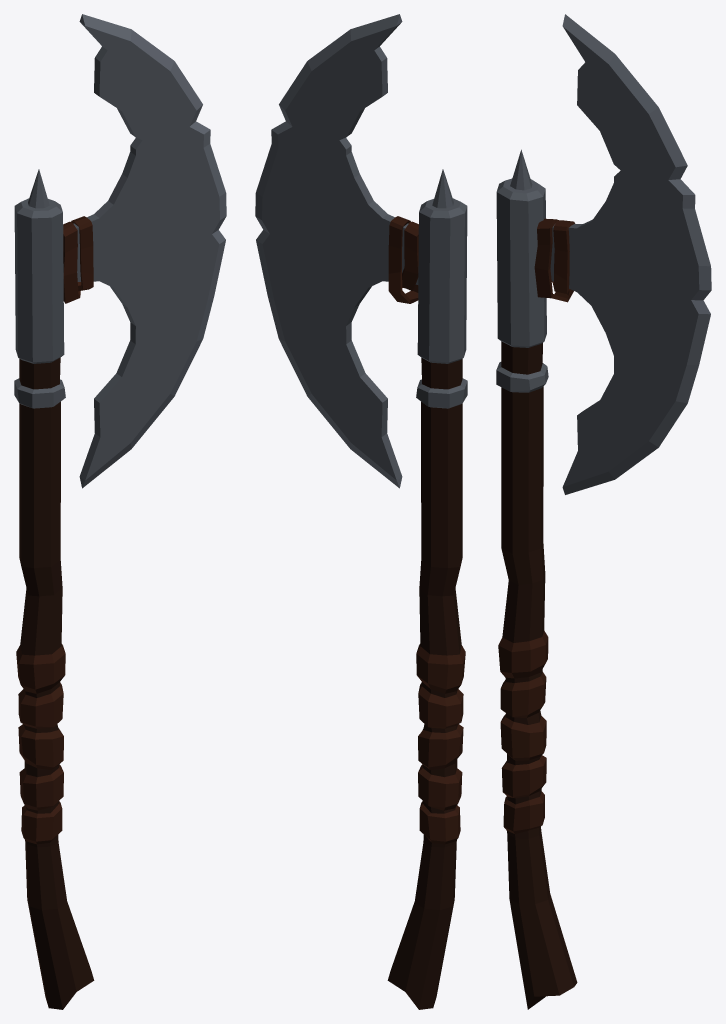
The model's file is Axe.glb.
3 renders of one model, left to right at view 1: azimuth 30°, elevation 25°; view 2: azimuth 150°, elevation 25°; view 3: azimuth 330°, elevation 25°, orthographic.
Parts seen in each view (by area): view 1: Axe; view 2: Axe; view 3: Axe.
Part boxes in pixels (x1,y1,x2,y2): Axe: (14,14,226,1009); Axe: (255,14,467,1009); Axe: (496,14,711,1009).
Bounding box in the file's own units: 0.1873 × 0.8416 × 0.0398.
